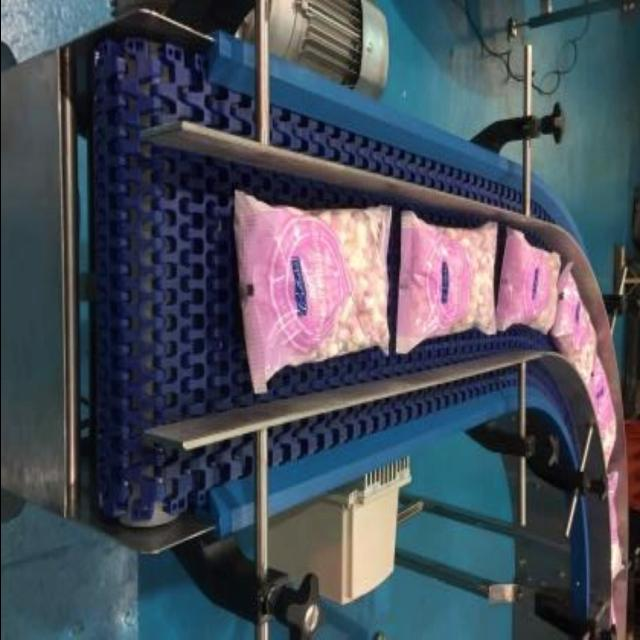food: (232, 188, 392, 394), (393, 207, 498, 356), (494, 224, 562, 336)
